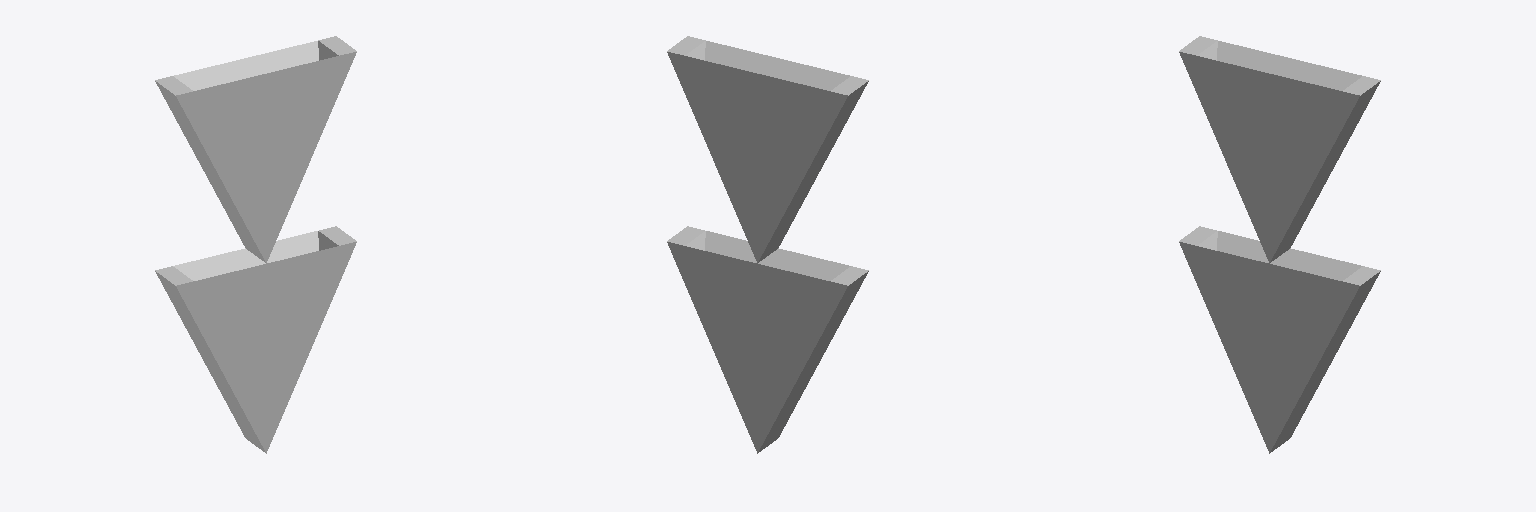
File: SpeedDown 1.obj
3 views of the same model, side by side, from view 1: azimuth 30°, elevation 25°; view 2: azimuth 150°, elevation 25°; view 3: azimuth 330°, elevation 25° (orthographic).
Parts seen in each view (by area): view 1: mergedBlocks; view 2: mergedBlocks; view 3: mergedBlocks.
Boxes of the visible parts, <box> form: mergedBlocks: <box>155,36,356,453</box>; mergedBlocks: <box>667,36,868,453</box>; mergedBlocks: <box>1179,36,1380,453</box>.
Size of the model in its own units: 1 by 2 by 0.2.